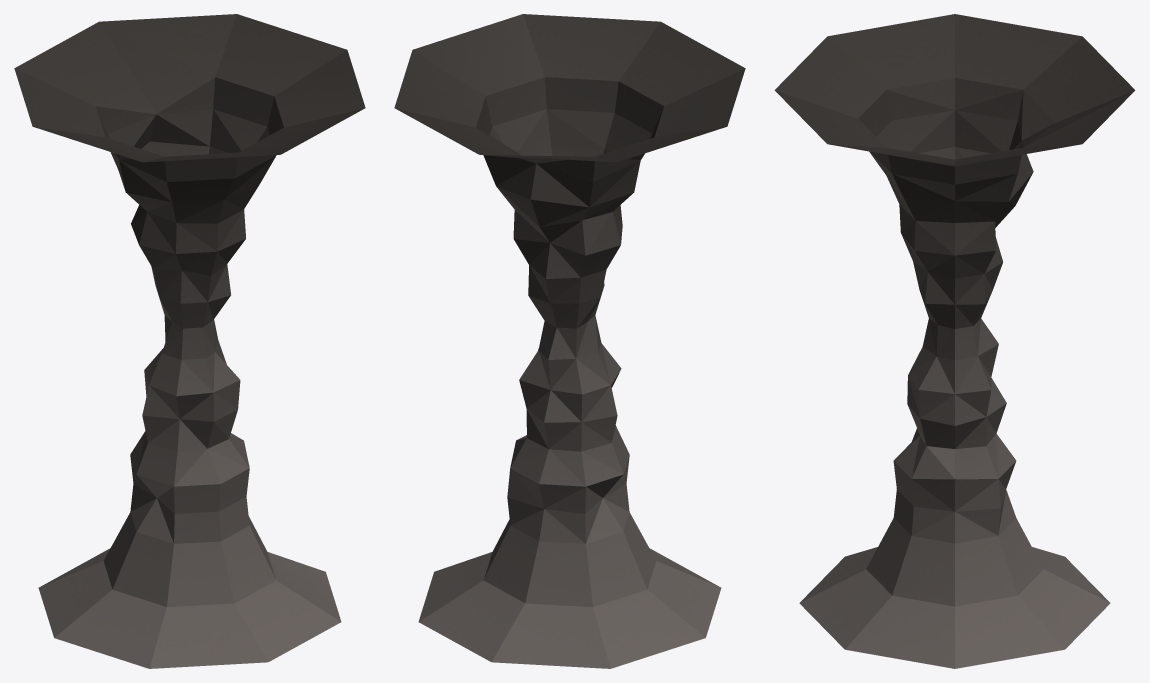
File: Stal_Big_2.fbx
3 views of the same model, side by side, from view 1: azimuth 30°, elevation 25°; view 2: azimuth 150°, elevation 25°; view 3: azimuth 270°, elevation 25° (orthographic).
Parts seen in each view (by area): view 1: pCylinder38; view 2: pCylinder38; view 3: pCylinder38.
Boxes of the visible parts, box(x1,y1,x2,y2) form: pCylinder38: box(14, 14, 365, 668); pCylinder38: box(394, 14, 745, 668); pCylinder38: box(774, 14, 1135, 668).
Bounding box in the file's own units: 3891 × 6100 × 3891.
1 material, 1 textured.
